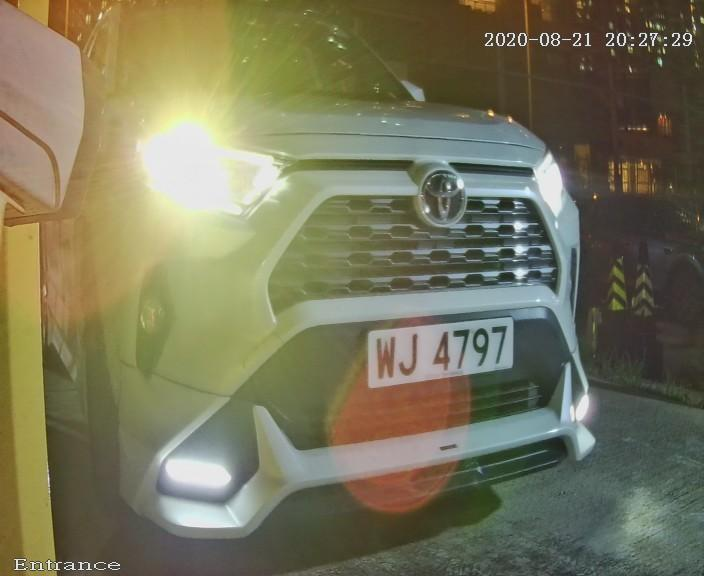Car: (7, 6, 651, 574)
License Plate: (347, 291, 545, 417)
